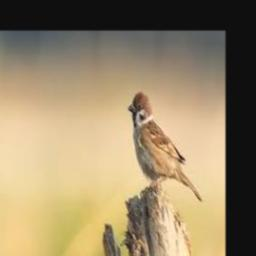Sparrow: (128, 92, 203, 203)
